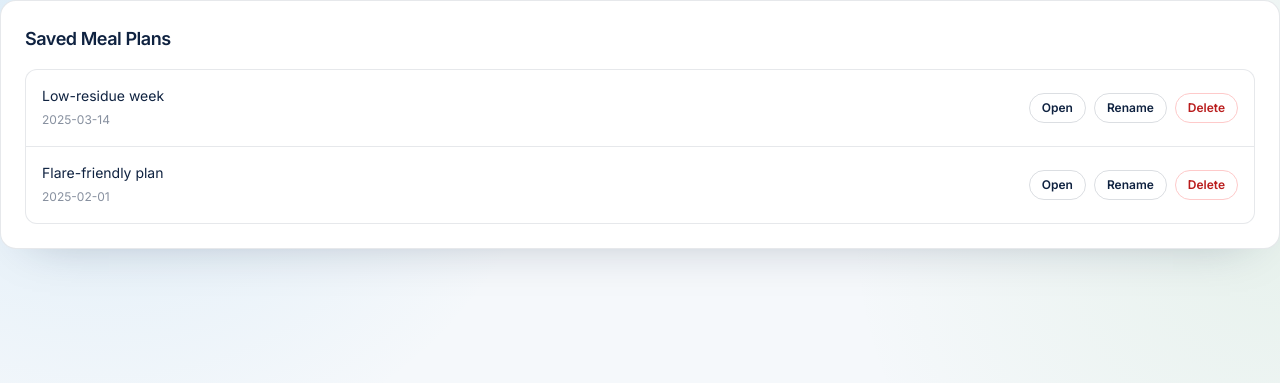
Test: SavedPlansList › shows the cannot-open message with the list still displayed when the deserializer refuses a record
The image size is (1280, 383).
Click the button with aria-label "Open Low-residue week": (1057, 108) [1029,93,1086,123]
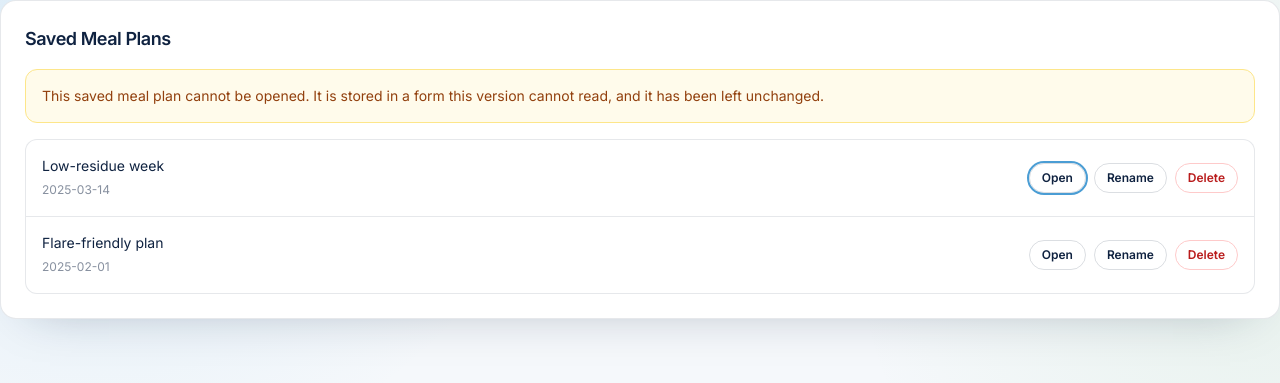
Check: the message shows "This saved meal plan cannot be opened. It is stored in a form this version cannot read, and it has been left unchanged.", box [42,87,824,104]
